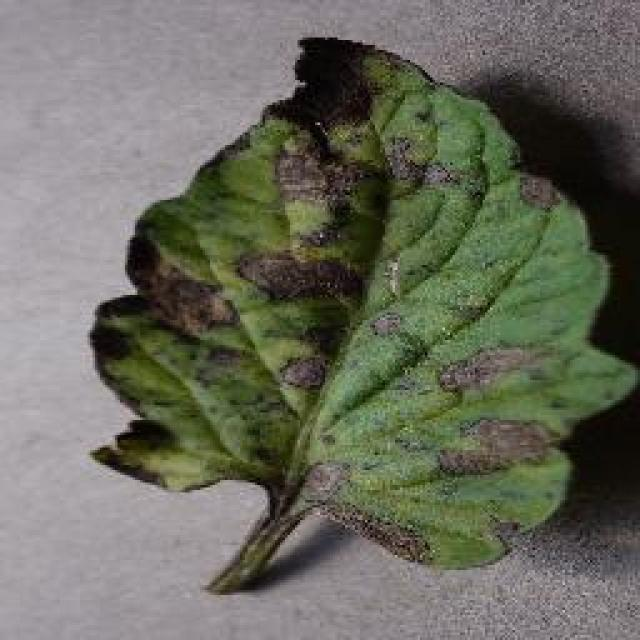Tomato Early blight leaf: (87, 40, 640, 575)
